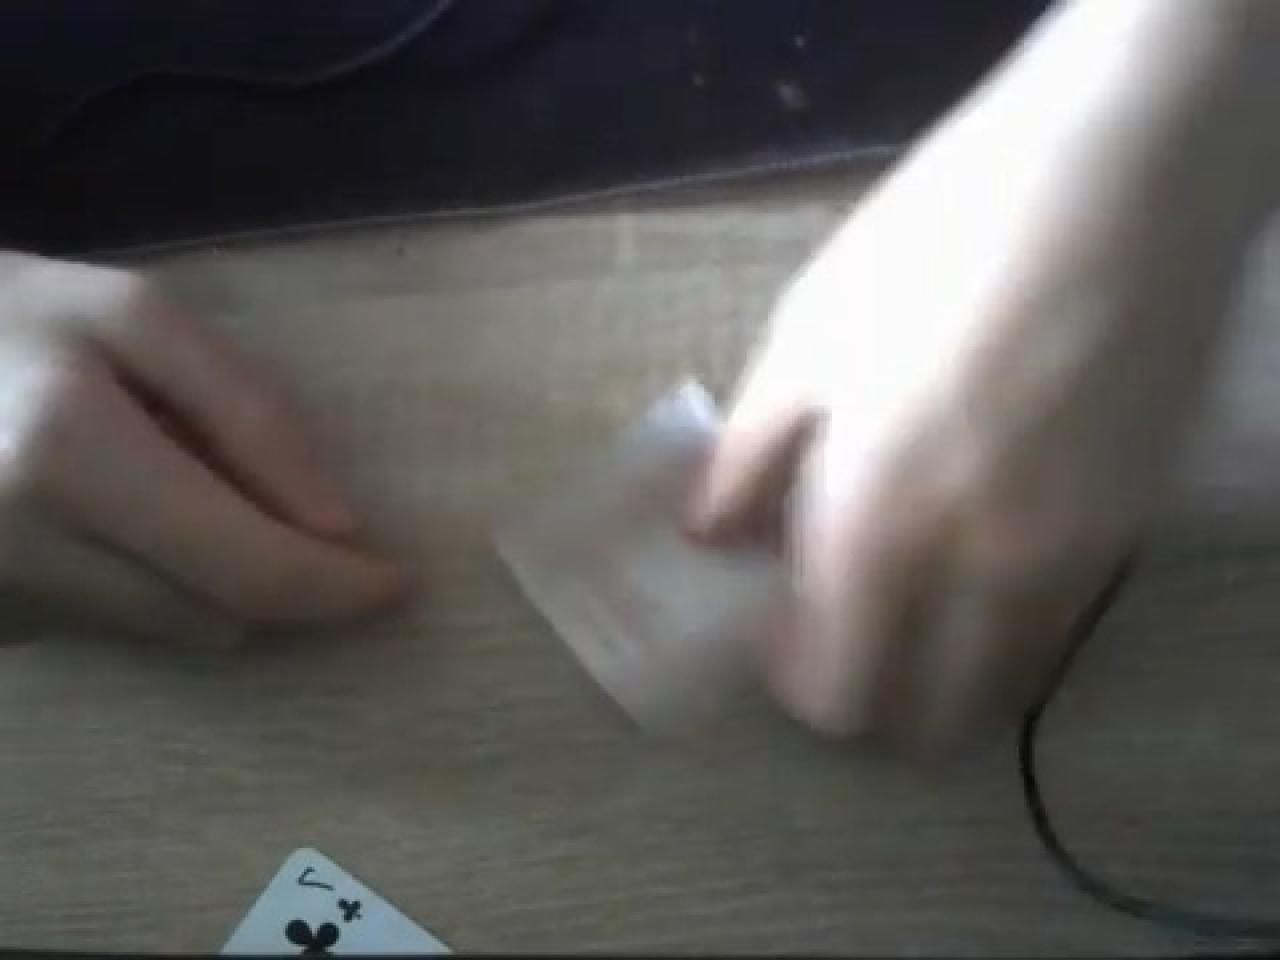5leva: (499, 384, 859, 765)
